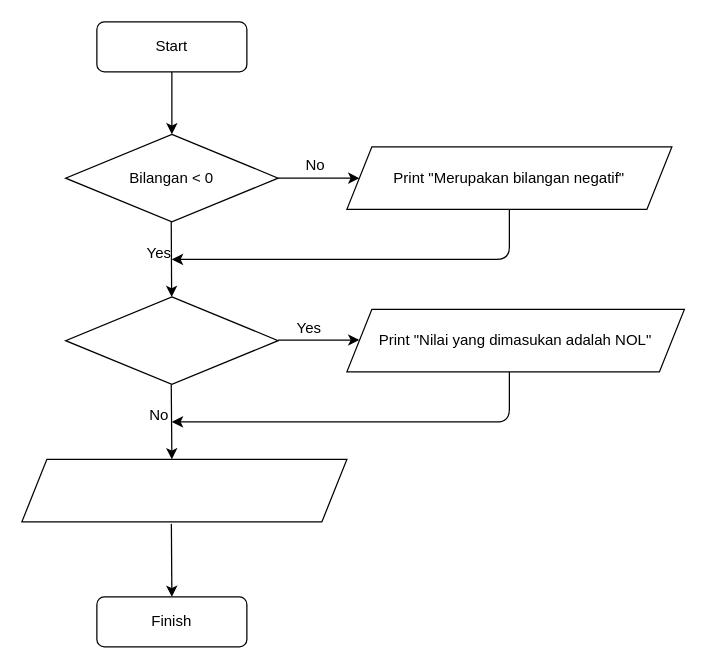
Some shapes in this 706 by 669 pixel diagram are drawn without their labels. The centre of each missing label's shape, as x and y in pixels:
Bilangan == 0: (x=171, y=340)
Print "Merupakan bilangan positif": (x=184, y=490)
